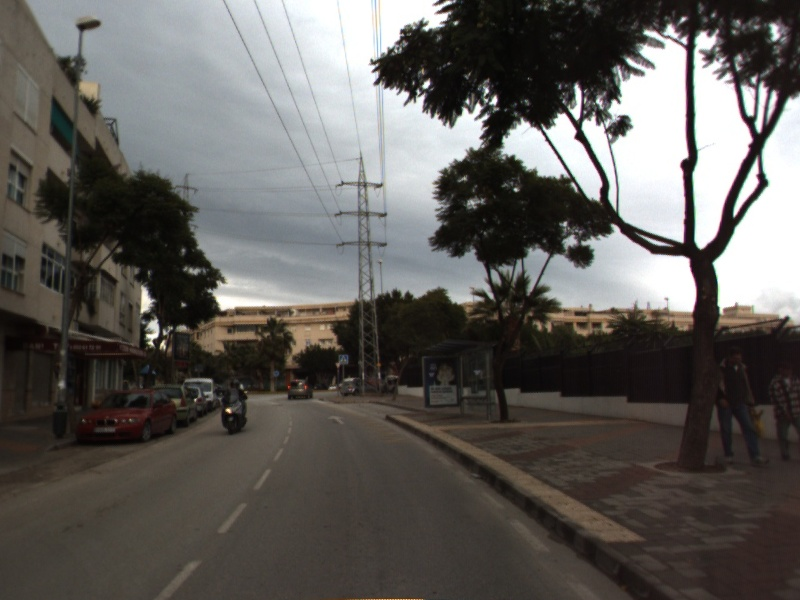STRAIGHT: (325, 413, 347, 426)
